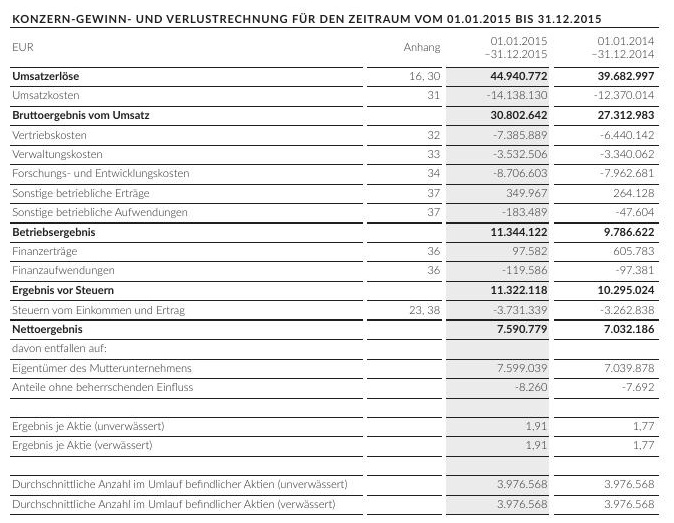table: (0, 0, 674, 523)
